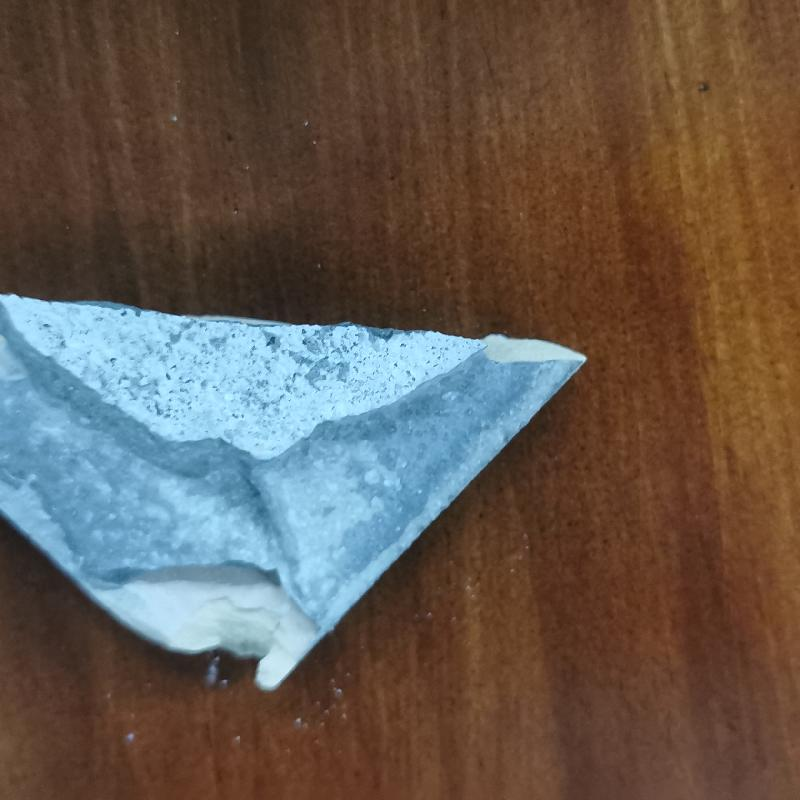tile: (0, 274, 588, 690)
